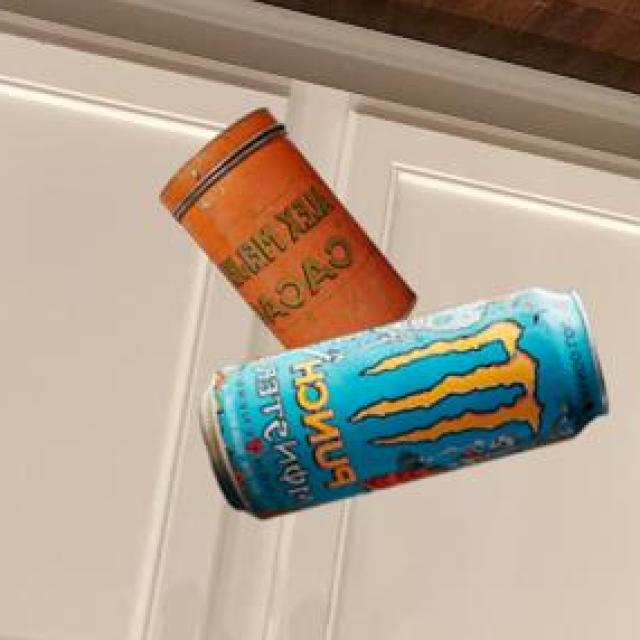logam: (196, 290, 605, 523), (158, 111, 413, 355)
